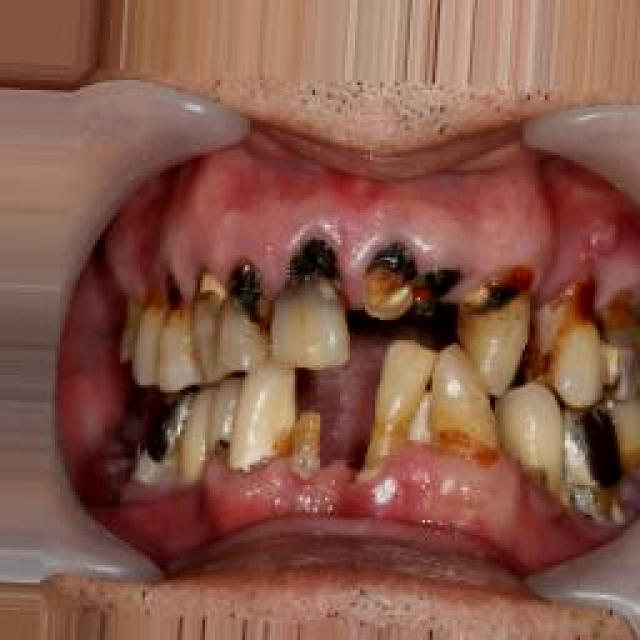caries: (370, 408, 492, 470), (532, 285, 596, 370), (285, 248, 345, 320), (130, 398, 190, 468), (288, 412, 332, 502), (225, 268, 278, 338), (360, 248, 412, 318), (587, 408, 615, 512), (482, 278, 522, 340), (595, 332, 640, 386), (192, 275, 230, 313), (427, 275, 445, 310)
